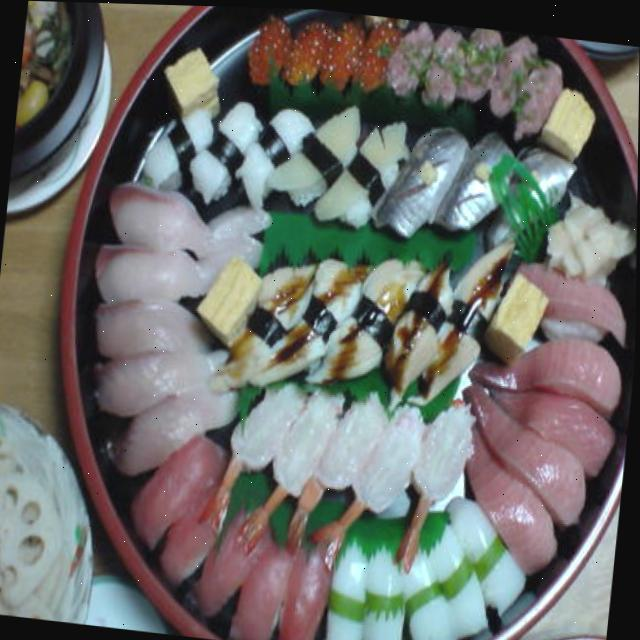寿司卷物: (21, 1, 640, 640)
